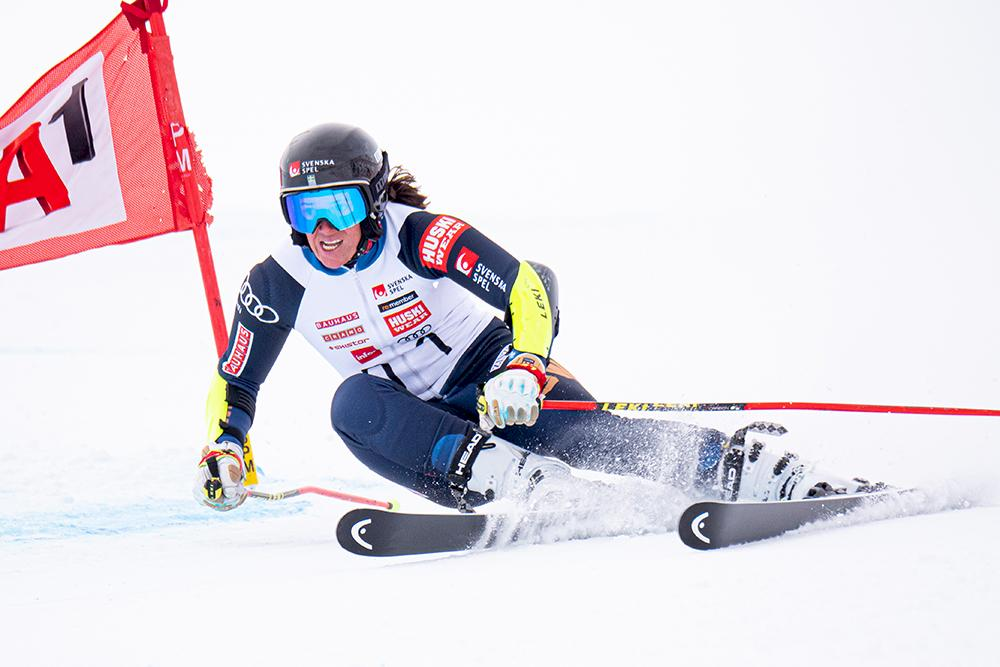skier: (175, 93, 988, 590)
